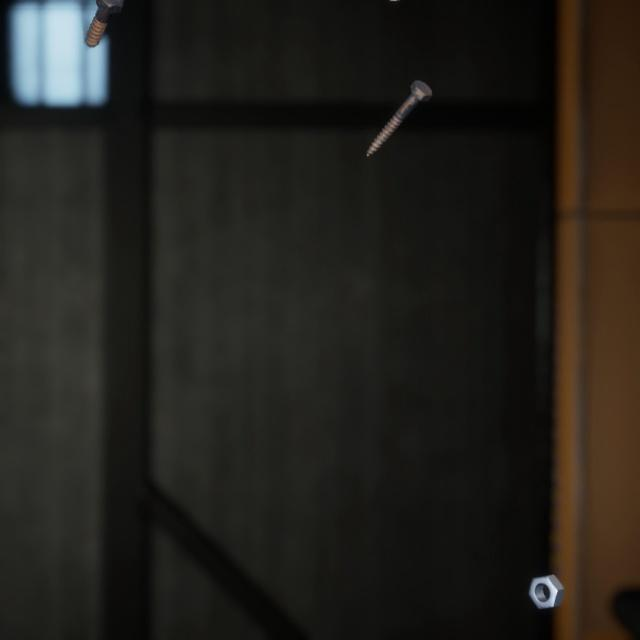bolt: (362, 64, 436, 149), (80, 0, 126, 44)
nut: (524, 547, 569, 590)
